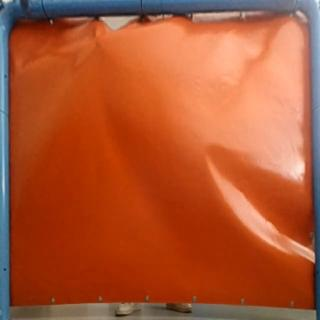Hit-hRxx: (93, 33, 106, 45)
